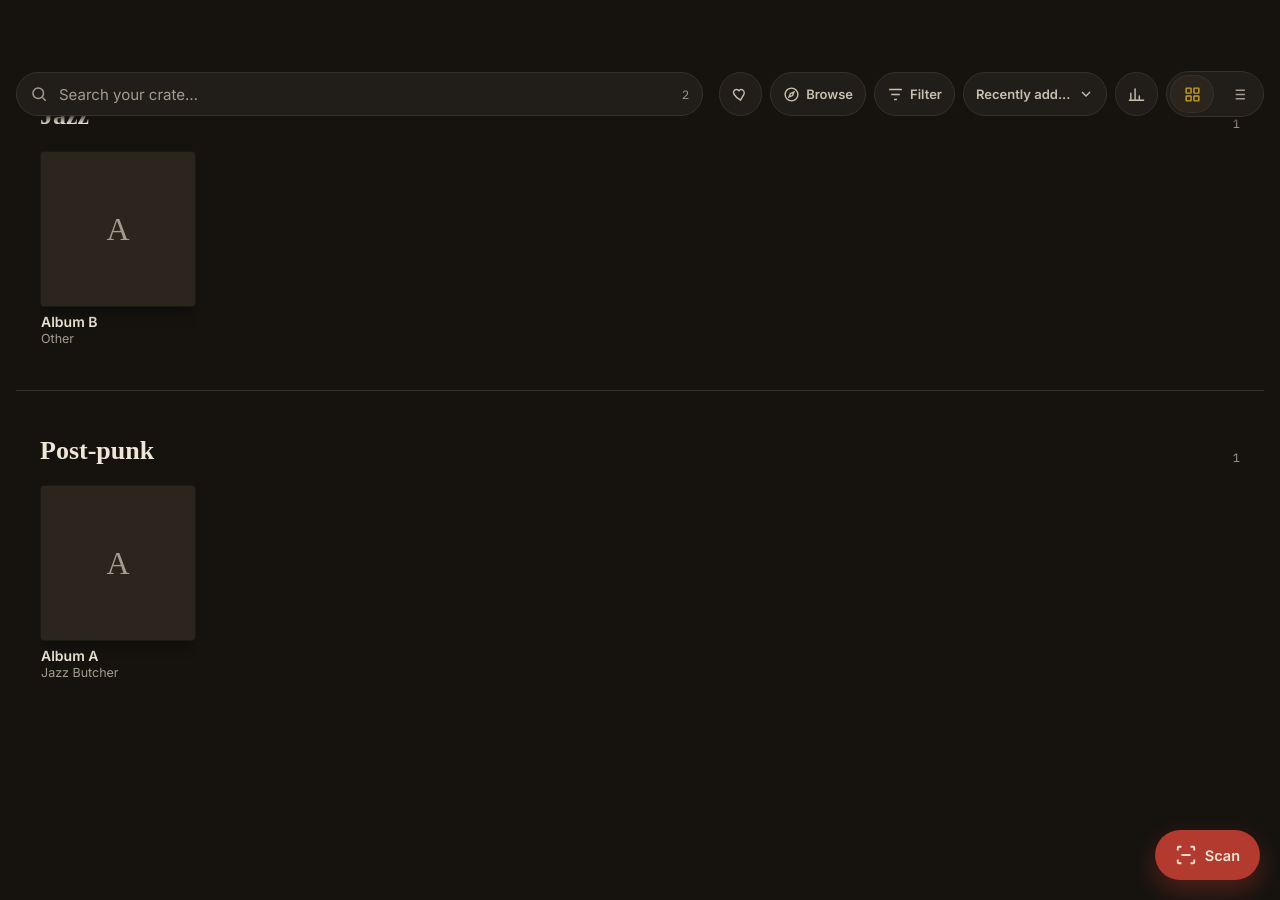
CollectionView — The Catalog (§ Phase 3) › ranks a title match above a genre match
Expected: the number of buttons with class "album-card" is 2, [40, 151, 196, 346]; [40, 485, 196, 680]
Type "jazz" into the field with placeholder "Search your crate…".
click(360, 94); type("jazz")  # box [16, 72, 703, 116]
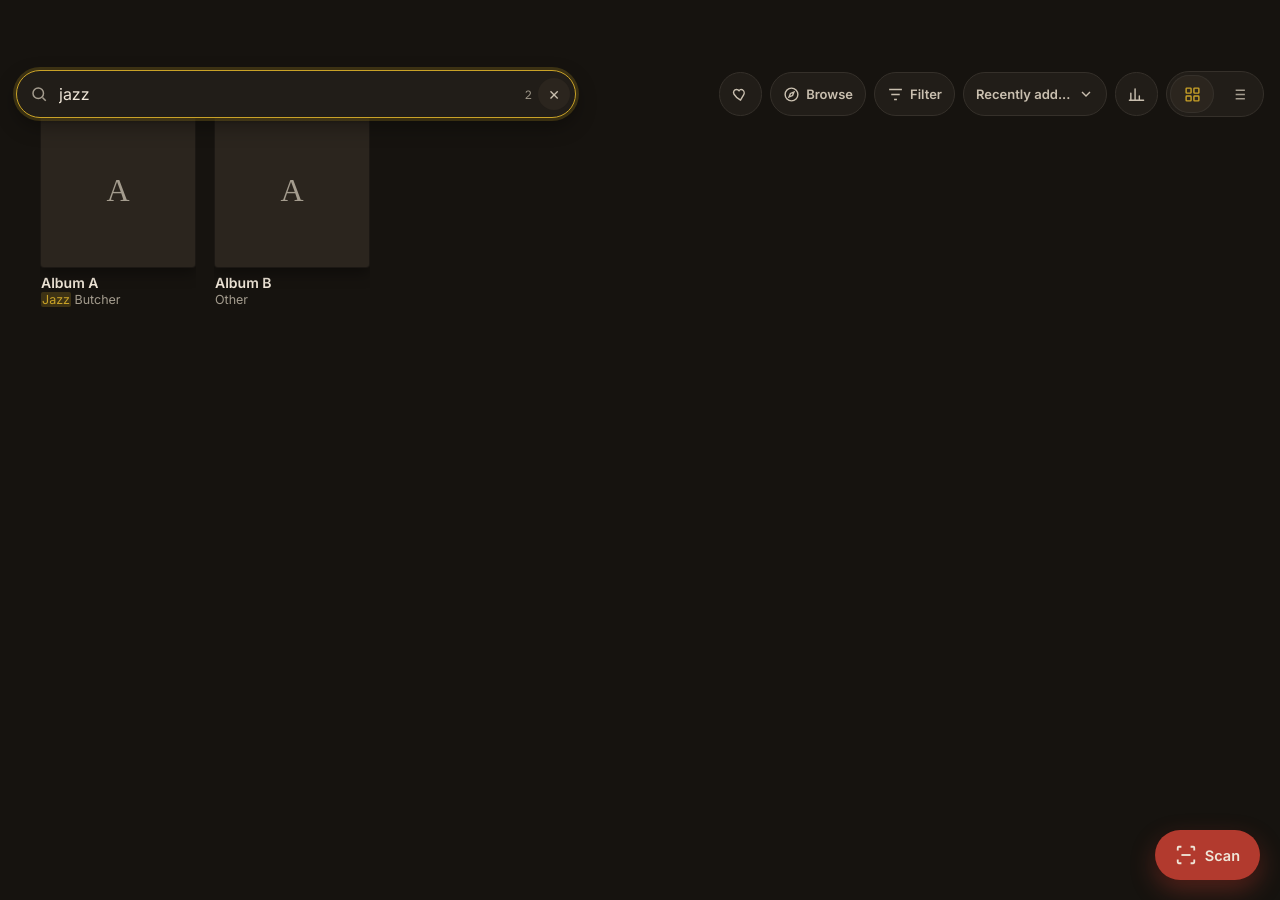
Expected: the text with class "album-card-title" reads "Album A", [41, 274, 98, 291]
